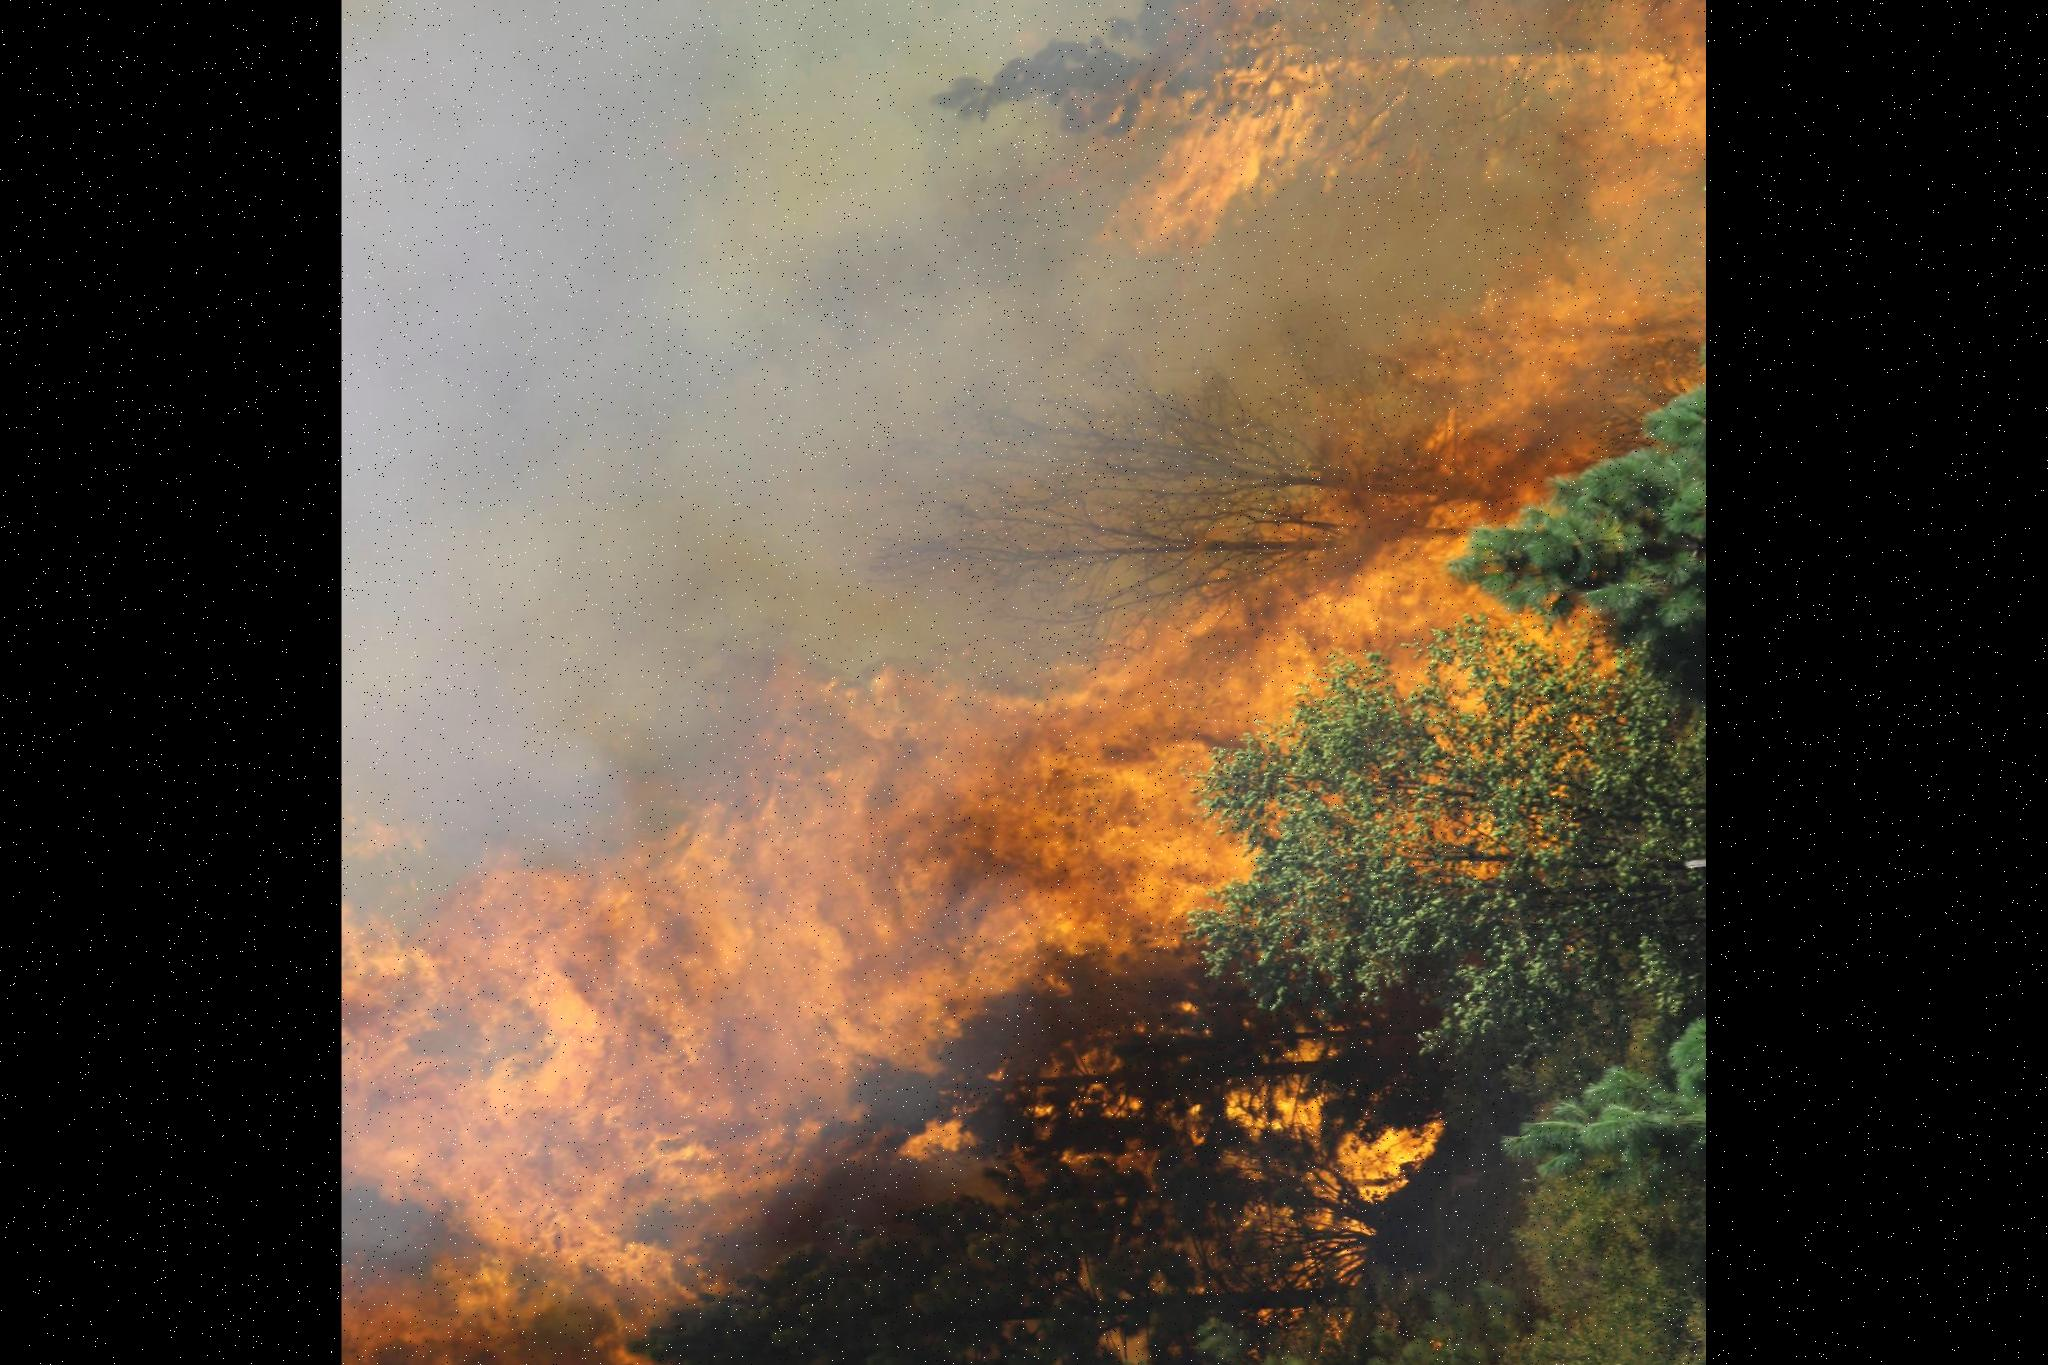fire: (356, 283, 1705, 1365), (930, 0, 1705, 271)
